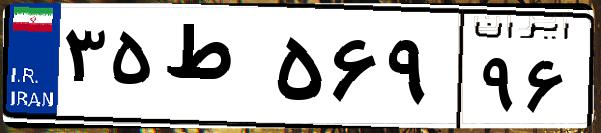3: (57, 26, 110, 100)
5: (270, 28, 330, 110), (110, 28, 158, 98)
6: (330, 28, 385, 110), (525, 38, 570, 115)
9: (385, 28, 445, 110), (475, 38, 525, 113)
ط: (158, 20, 270, 120)
